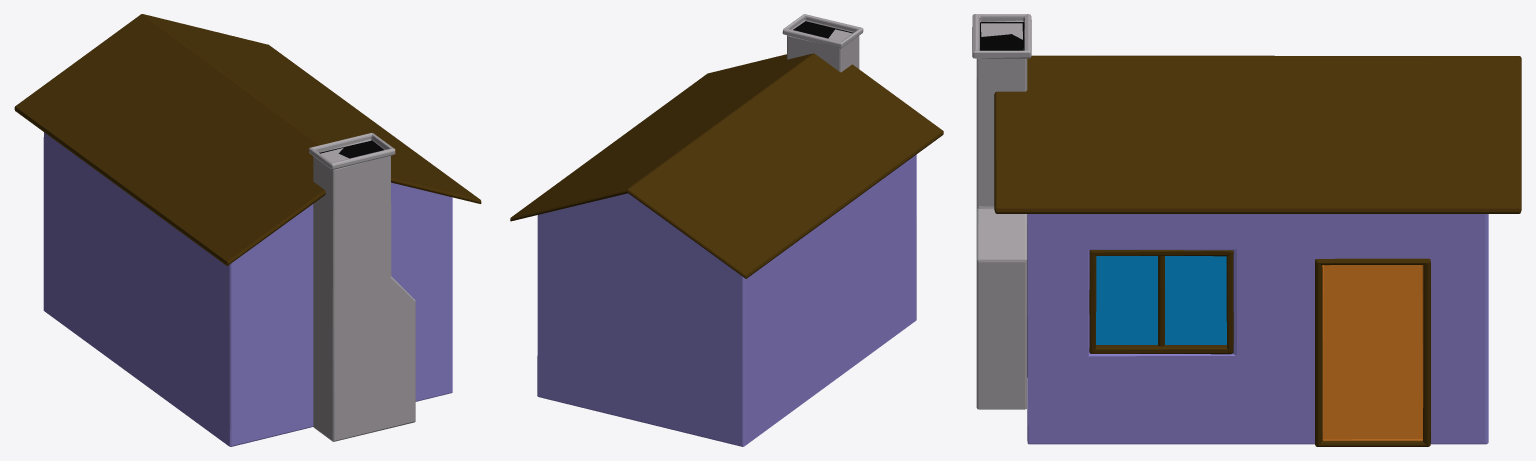
The model's file is house1 (1).fbx.
The picture shows the model from 3 angles, left to right: view 1: azimuth 30°, elevation 25°; view 2: azimuth 150°, elevation 25°; view 3: azimuth 270°, elevation 25°; orthographic projection. The views are drawn at different scales.
Visible parts, largest first — view 1: ev1; view 2: ev1; view 3: ev1.
Part boxes in pixels (box(x1,y1,x2,y2)): ev1: box(14, 14, 481, 446); ev1: box(510, 14, 943, 446); ev1: box(972, 14, 1521, 446).
Bounding box in the file's own units: 116 × 122 × 176.
